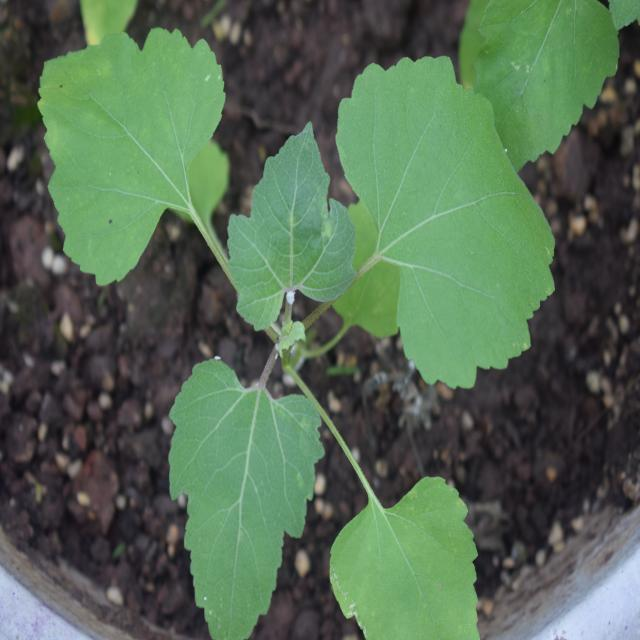cocklebur: (41, 41, 562, 592)
